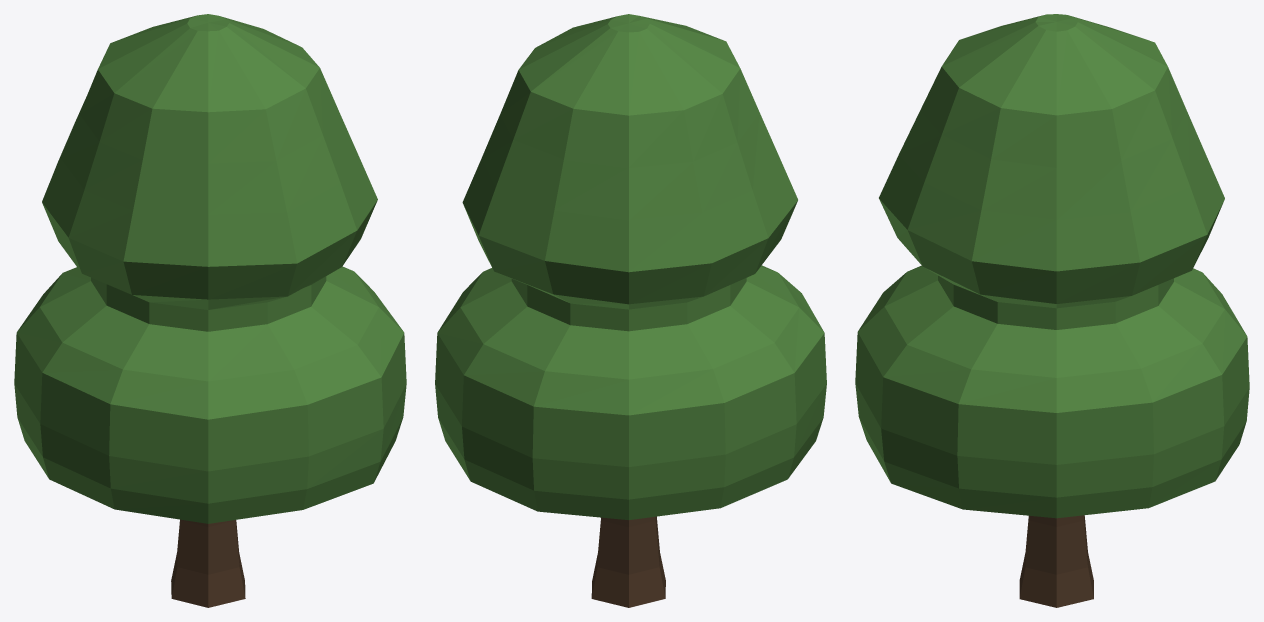
The model's file is young-pine-0d7695.glb.
The picture shows the model from 3 angles, left to right: view 1: azimuth 30°, elevation 25°; view 2: azimuth 150°, elevation 25°; view 3: azimuth 270°, elevation 25°; orthographic projection.
Visible parts, largest first — view 1: young-pine-mesh; view 2: young-pine-mesh; view 3: young-pine-mesh.
Part boxes in pixels (bbox=[...]): young-pine-mesh: bbox=[14, 14, 406, 607]; young-pine-mesh: bbox=[435, 14, 826, 607]; young-pine-mesh: bbox=[855, 14, 1249, 607].
Bounding box in the file's own units: 1.86 × 3 × 1.89.
